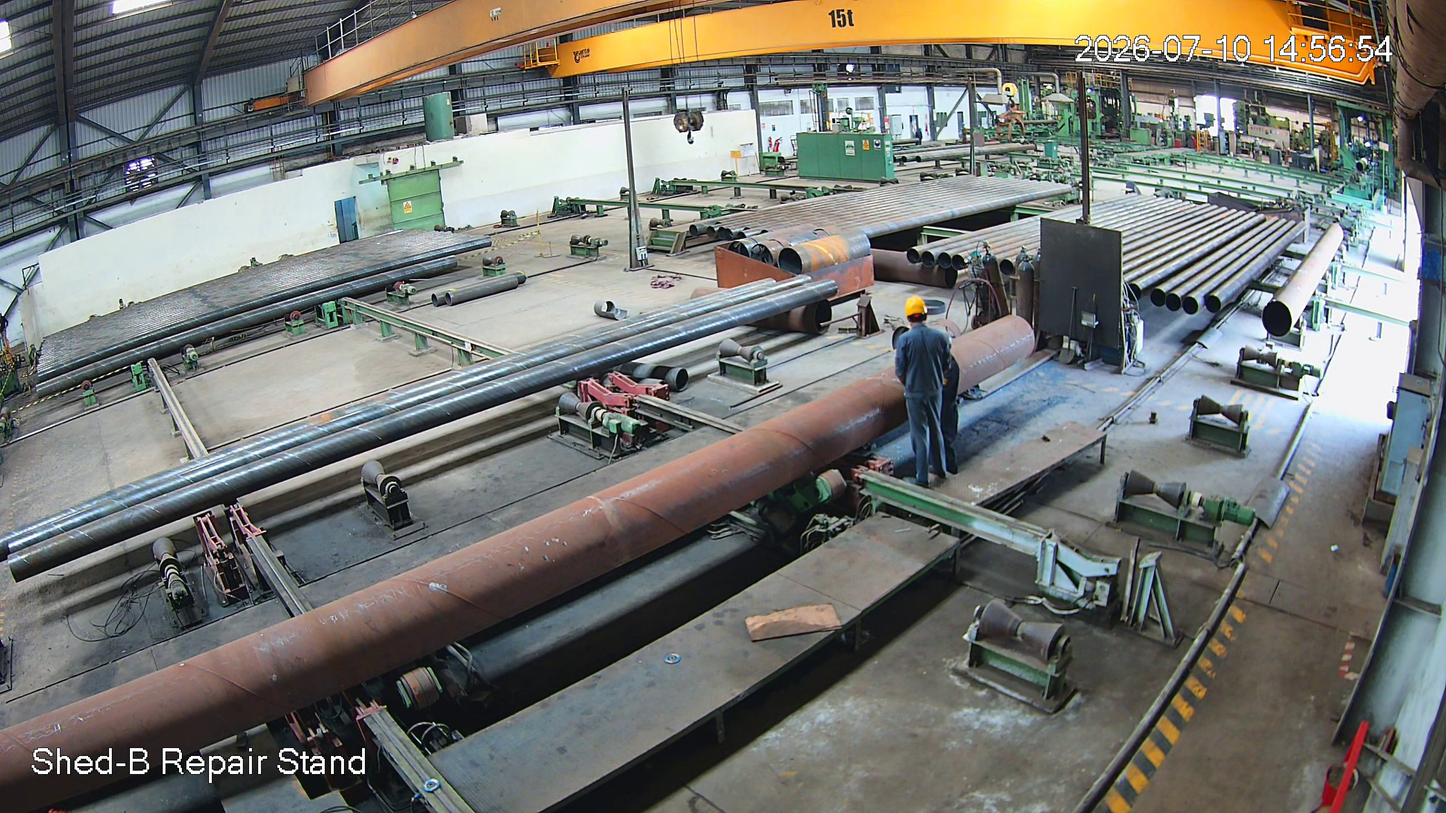Helmet: (901, 296, 956, 332)
Person: (891, 300, 954, 485)
